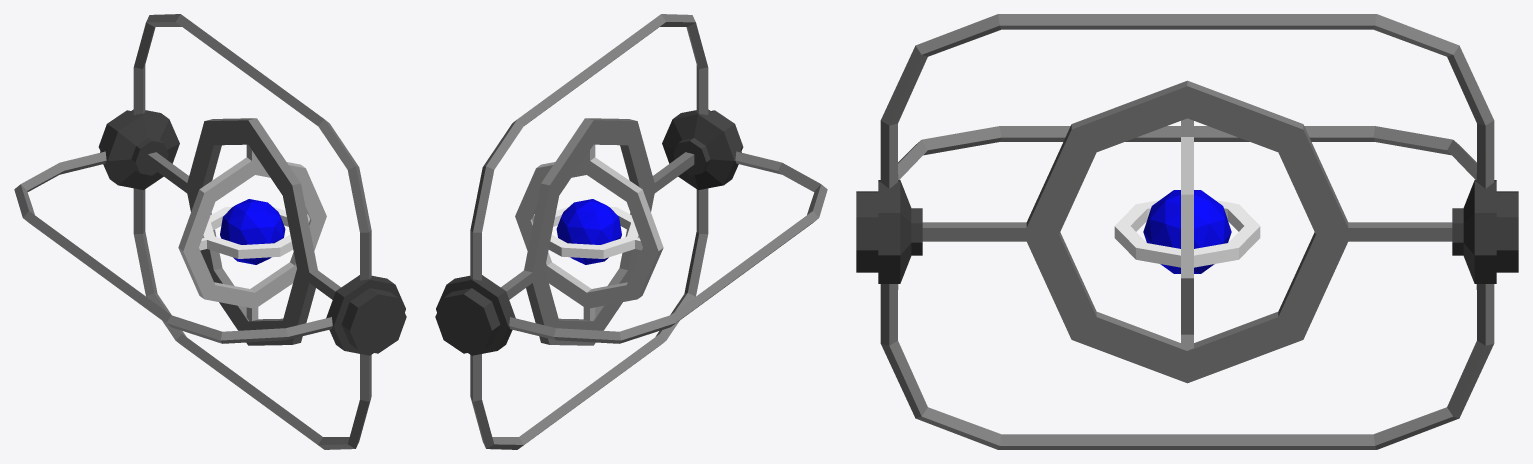
Rendered from CD_Engine_v3.glb.
3 views of the same model, side by side, from view 1: azimuth 30°, elevation 25°; view 2: azimuth 150°, elevation 25°; view 3: azimuth 270°, elevation 25° (orthographic). The views are drawn at different scales.
Parts seen in each view (by area): view 1: Outer, Pivots, Middle, Bar, Bar.001, Bar.002, Core, Inner; view 2: Outer, Pivots, Middle, Bar, Bar.001, Bar.002, Core, Inner; view 3: Outer, Bar.001, Bar.002, Pivots, Bar, Inner, Core, Middle.
Boxes of the visible parts, x1,y1,x2,y2 form: Outer: [147, 118, 340, 345]; Pivots: [98, 109, 406, 355]; Middle: [178, 144, 326, 320]; Bar: [14, 151, 332, 343]; Bar.001: [133, 14, 371, 280]; Bar.002: [133, 188, 371, 449]; Core: [220, 199, 285, 264]; Inner: [199, 206, 309, 258]; Outer: [501, 118, 694, 345]; Pivots: [435, 109, 743, 355]; Middle: [515, 144, 663, 320]; Bar: [509, 151, 827, 343]; Bar.001: [470, 14, 708, 280]; Bar.002: [470, 188, 708, 449]; Core: [556, 199, 621, 264]; Inner: [532, 206, 642, 258]; Outer: [922, 80, 1452, 383]; Bar.001: [880, 14, 1494, 188]; Bar.002: [880, 284, 1494, 449]; Pivots: [856, 180, 1518, 283]; Bar: [898, 126, 1476, 179]; Inner: [1114, 200, 1260, 267]; Core: [1143, 190, 1231, 273]; Middle: [1181, 118, 1193, 350].
Bounding box in the file's own units: 15.84 × 21.78 × 30.
